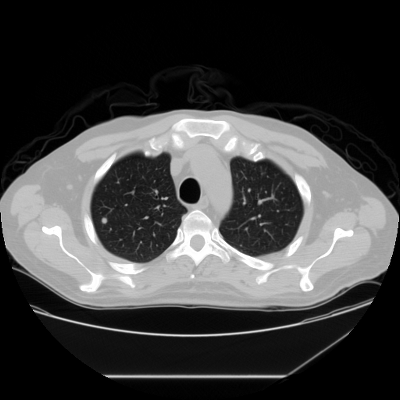nodule: (100, 216, 108, 224)
